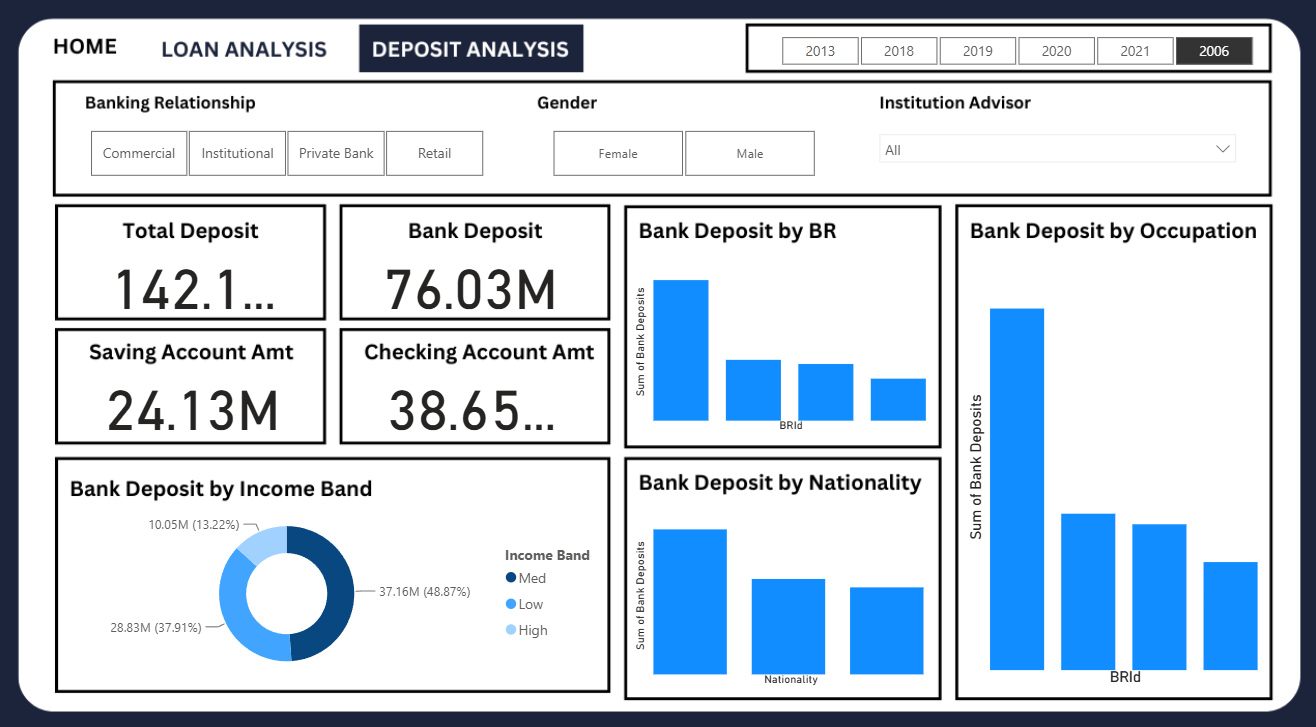

The page's visual inventory and layout, read from the dashboard file:
{"tool":"powerbi","page":{"name":"Deposit Analysis","canvas":[1280,720],"ordinal":2},"visuals":[{"type":"slicer","fields":{"Values":["banking_case customer.Year of Joining"]},"box":[733.3,32.2,504.1,34.9],"z":0},{"type":"actionButton","box":[36.4,31.7,99.7,39.6],"z":1000},{"type":"actionButton","box":[348.2,31.7,221.6,39.6],"z":2000},{"type":"actionButton","box":[587.1,31.7,123.4,39.6],"z":3000},{"type":"card","fields":{"Values":["banking_case customer.Total Deposit"]},"box":[100.9,243.7,179.5,65.5],"z":4000},{"type":"card","fields":{"Values":["Sum(banking_case customer.Bank Deposits)"]},"box":[369.5,243.7,179.5,65.5],"z":5000},{"type":"card","fields":{"Values":["Sum(banking_case customer.Saving Accounts)"]},"box":[100.9,360.4,179.5,65.5],"z":6000},{"type":"card","fields":{"Values":["Sum(banking_case customer.Checking Accounts)"]},"box":[370.8,360.4,179.5,65.5],"z":7000},{"type":"donutChart","fields":{"Category":["banking_case customer.Income Band"],"Y":["Sum(banking_case customer.Bank Deposits)"]},"box":[66.8,488.8,530.7,176.9],"z":8000},{"type":"clusteredColumnChart","fields":{"Category":["banking_case customer.BRId"],"Y":["Sum(banking_case customer.Bank Deposits)"]},"box":[613.3,243.7,293.5,182.1],"z":9000},{"type":"clusteredColumnChart","fields":{"Category":["banking_case customer.Nationality"],"Y":["Sum(banking_case customer.Bank Deposits)"]},"box":[613.3,488.8,293.5,182.1],"z":10000},{"type":"slicer","fields":{"Values":["banking_case customer.BRId"]},"box":[66.8,123.2,428.5,57.7],"z":11000},{"type":"slicer","fields":{"Values":["banking_case customer.GenderId"]},"box":[512.4,123.2,302.7,57.7],"z":12000},{"type":"slicer","fields":{"Values":["banking_case customer.IAId"]},"box":[843.9,123.2,364.3,57.7],"z":13000},{"type":"clusteredColumnChart","fields":{"Category":["banking_case customer.BRId"],"Y":["Sum(banking_case customer.Bank Deposits)"]},"box":[933.7,245.3,292.8,425.7],"z":14000},{"type":"actionButton","box":[136.3,27.5,196.6,40.6],"z":15000},{"type":"shape","box":[579.1,30.2,139.9,42.2],"z":15001}]}

Visuals, with their boxes in screenshot pixels (x1, y1, x2, y2), scaled from the page's 1280x720 canvas onto the 1316x727 screenshot:
slicer - banking_case customer.Year of Joining: [left=754, top=33, right=1272, bottom=68]
actionButton: [left=37, top=32, right=140, bottom=72]
actionButton: [left=358, top=32, right=586, bottom=72]
actionButton: [left=604, top=32, right=730, bottom=72]
card - banking_case customer.Total Deposit: [left=104, top=246, right=288, bottom=312]
card - Sum(banking_case customer.Bank Deposits): [left=380, top=246, right=564, bottom=312]
card - Sum(banking_case customer.Saving Accounts): [left=104, top=364, right=288, bottom=430]
card - Sum(banking_case customer.Checking Accounts): [left=381, top=364, right=566, bottom=430]
donutChart - banking_case customer.Income Band x Sum(banking_case customer.Bank Deposits): [left=69, top=494, right=614, bottom=672]
clusteredColumnChart - banking_case customer.BRId x Sum(banking_case customer.Bank Deposits): [left=631, top=246, right=932, bottom=430]
clusteredColumnChart - banking_case customer.Nationality x Sum(banking_case customer.Bank Deposits): [left=631, top=494, right=932, bottom=677]
slicer - banking_case customer.BRId: [left=69, top=124, right=509, bottom=183]
slicer - banking_case customer.GenderId: [left=527, top=124, right=838, bottom=183]
slicer - banking_case customer.IAId: [left=868, top=124, right=1242, bottom=183]
clusteredColumnChart - banking_case customer.BRId x Sum(banking_case customer.Bank Deposits): [left=960, top=248, right=1261, bottom=678]
actionButton: [left=140, top=28, right=342, bottom=69]
shape: [left=595, top=30, right=739, bottom=73]
